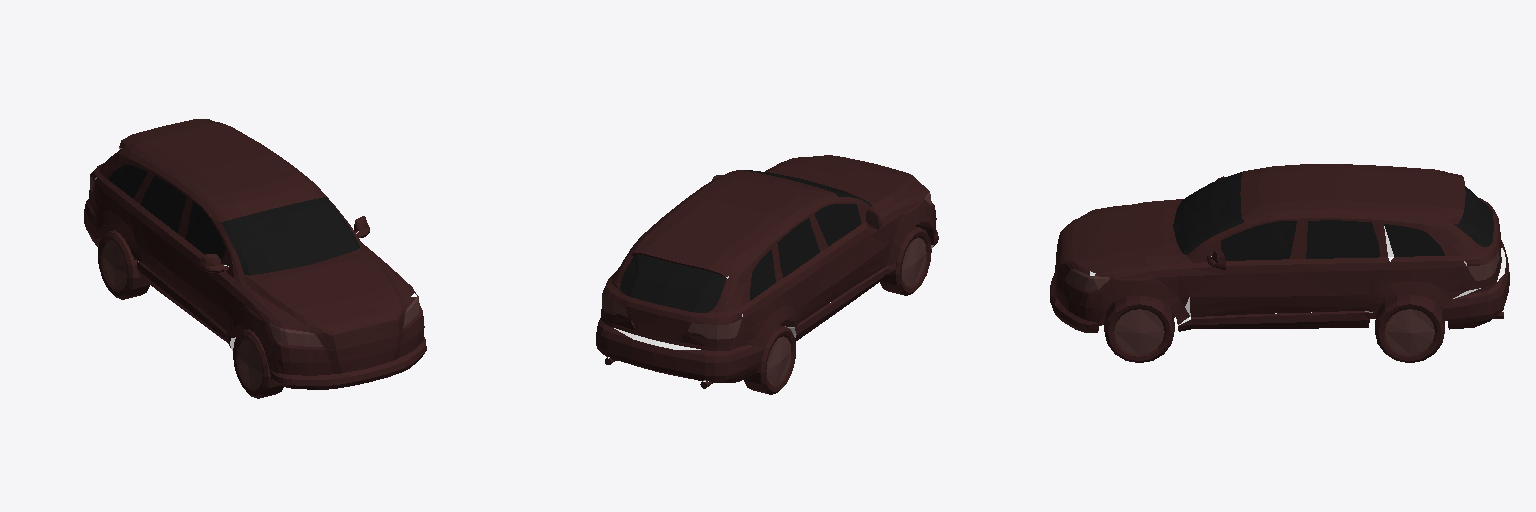
File: suv.obj
The picture shows the model from 3 angles: view 1: azimuth 30°, elevation 25°; view 2: azimuth 150°, elevation 25°; view 3: azimuth 270°, elevation 25°; orthographic projection.
Parts seen in each view (by area): view 1: Mesh1 car_SUV_01_1 Model, Mesh41 car_SUV_01_1 Model, Mesh42 car_SUV_01_1 Model; view 2: Mesh1 car_SUV_01_1 Model, Mesh41 car_SUV_01_1 Model, Mesh42 car_SUV_01_1 Model; view 3: Mesh1 car_SUV_01_1 Model, Mesh40 car_SUV_01_1 Model, Mesh39 car_SUV_01_1 Model.
Part boxes in pixels (x1,y1,x2,y2): Mesh1 car_SUV_01_1 Model: (84,119,426,389); Mesh41 car_SUV_01_1 Model: (98,230,149,299); Mesh42 car_SUV_01_1 Model: (233,329,283,398); Mesh1 car_SUV_01_1 Model: (596,155,938,382); Mesh41 car_SUV_01_1 Model: (744,325,795,394); Mesh42 car_SUV_01_1 Model: (880,226,931,295); Mesh1 car_SUV_01_1 Model: (1050,164,1509,332); Mesh40 car_SUV_01_1 Model: (1375,295,1444,362); Mesh39 car_SUV_01_1 Model: (1104,296,1174,362).
Size of the model in its own units: 94.31 by 75.4 by 222.